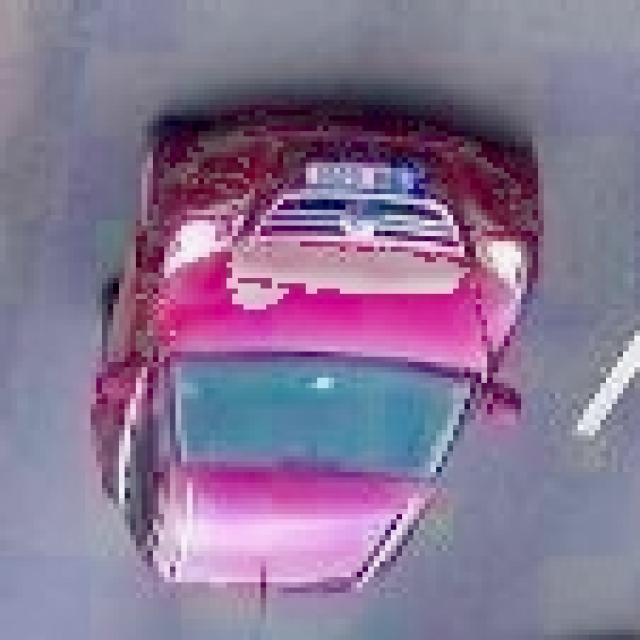maroon: (96, 115, 544, 588)
